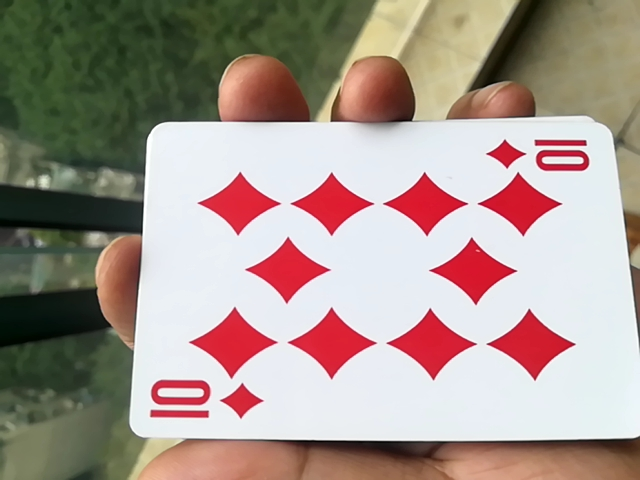fk 10: (118, 124, 639, 458)
